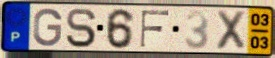3: (184, 9, 211, 51)
6: (105, 7, 136, 50)
F: (139, 10, 172, 49)
G: (31, 7, 64, 48)
S: (64, 7, 98, 49)
X: (214, 9, 247, 52)
